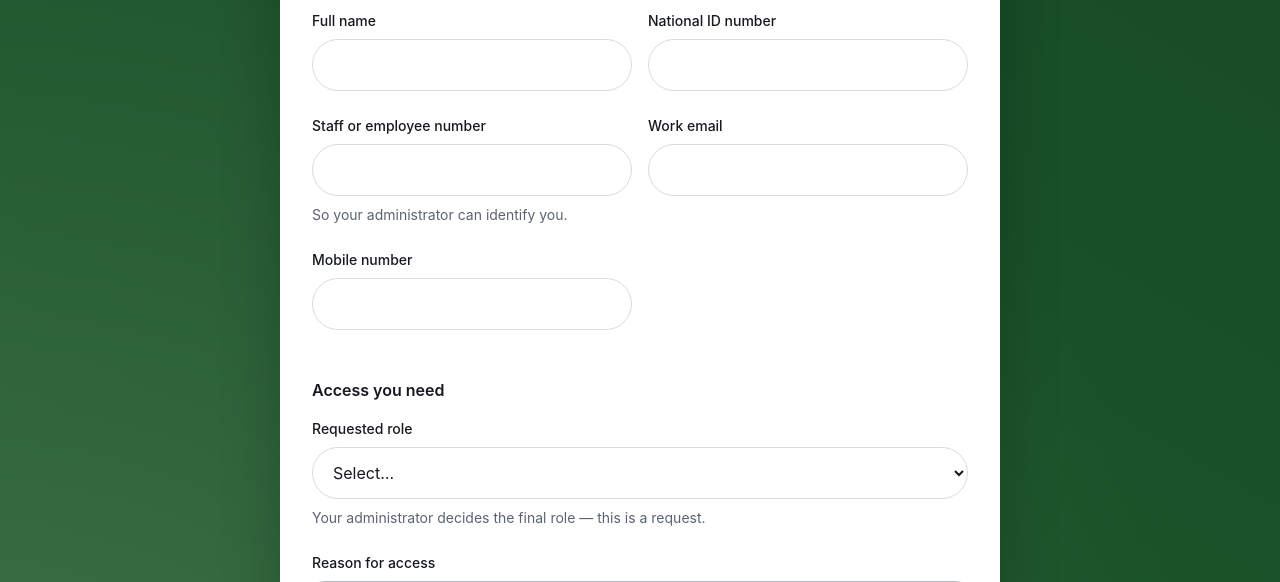
it: JoinBusinessPage › rejects a phone number that is not a Rwandan mobile
(page scrolled)
Type "0881234567" into the field labelled "Mobile number" at [472, 304], box [312,278,632,330]
(page scrolled)
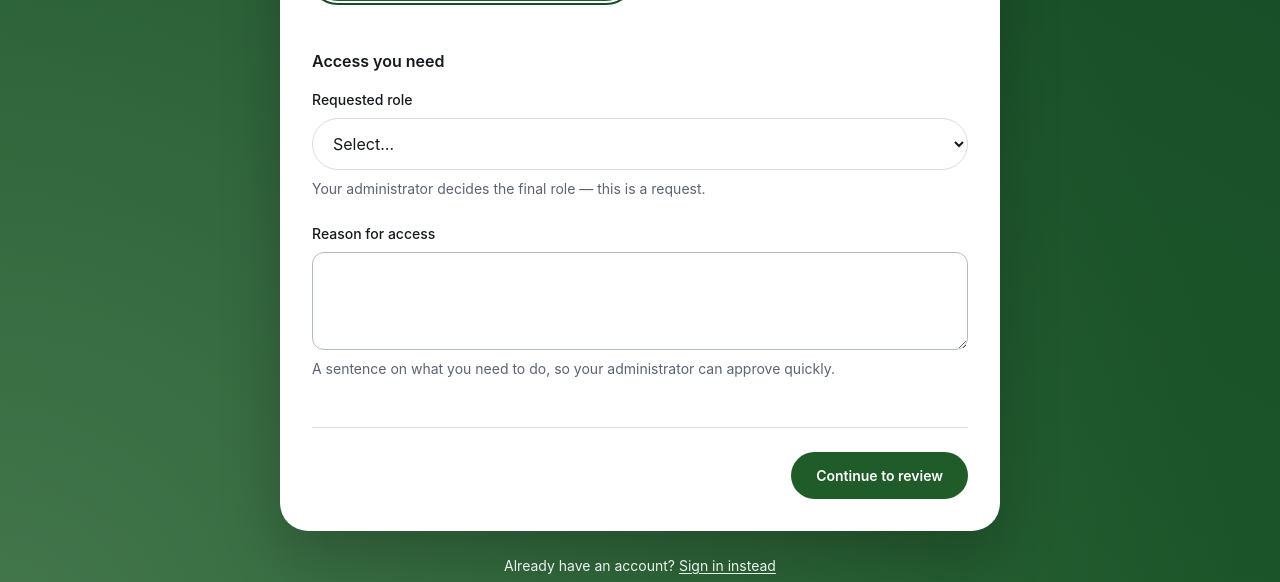
Click the button "Continue to review" at [880, 476], box [791,452,968,499]
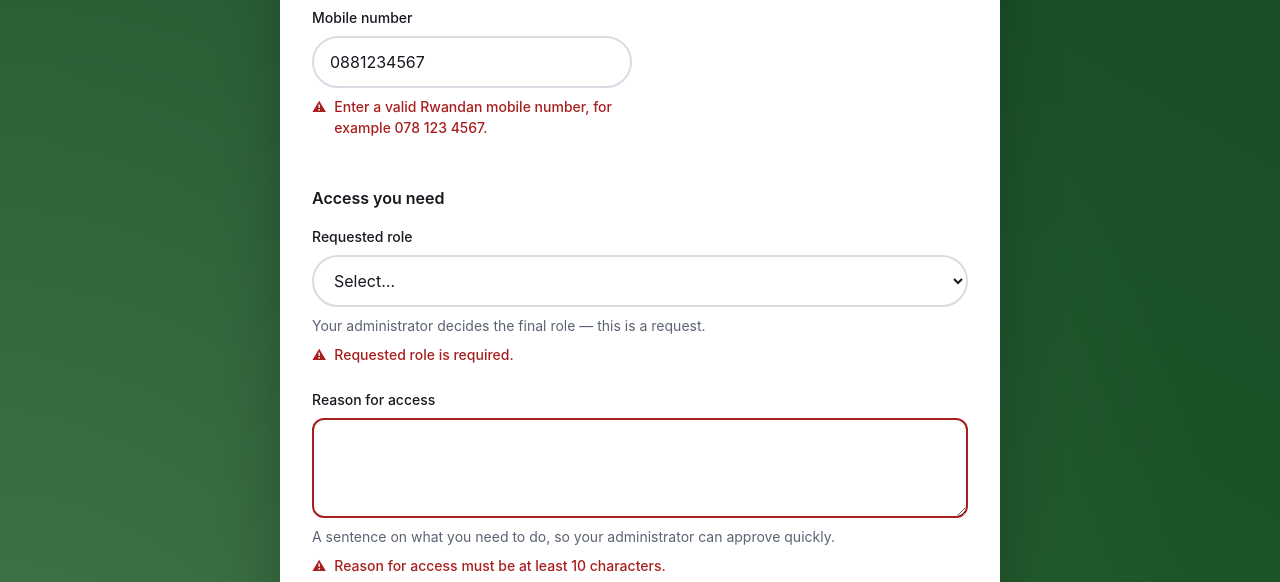
Now the text "valid Rwandan mobile number" is shown, box [334,98,612,136]
